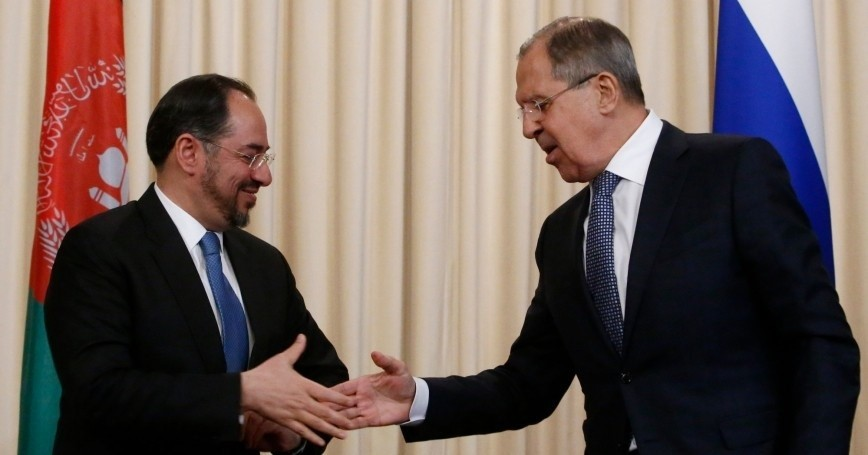face_no_mask: (509, 30, 646, 184), (157, 79, 278, 238)
